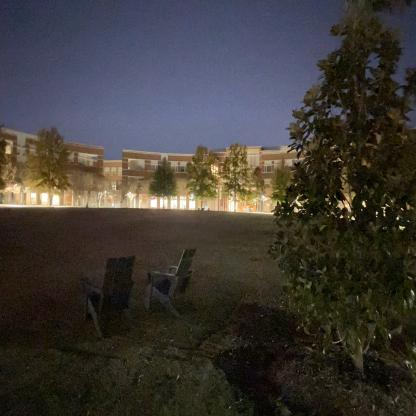eb2: (117, 138, 381, 216)
